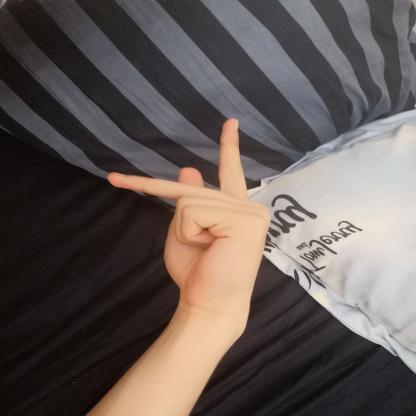DHAA: (96, 109, 287, 315)
